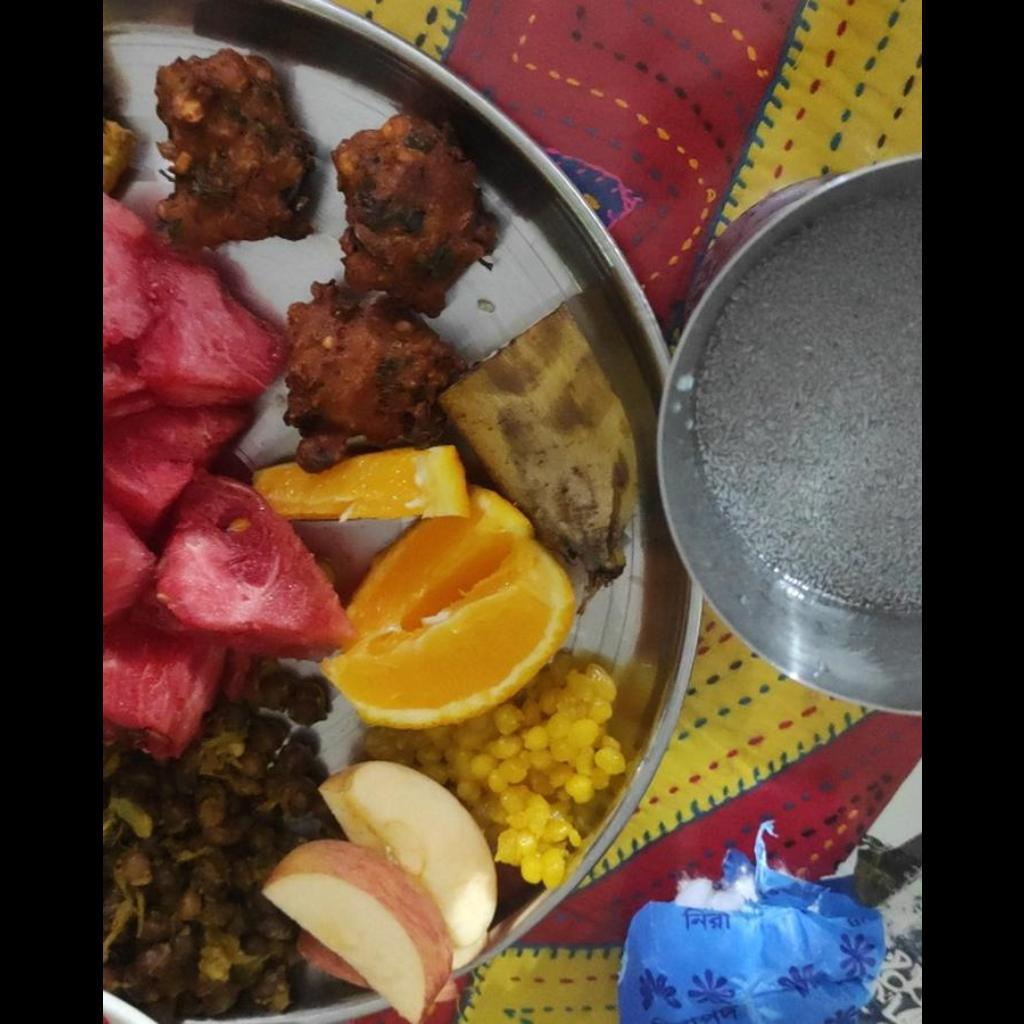apple: (259, 766, 497, 1023)
banana: (454, 296, 632, 581)
burinda: (363, 657, 633, 892)
chola: (102, 670, 336, 1022)
juice: (690, 163, 920, 609)
orange: (253, 444, 582, 729)
peyaju: (152, 47, 488, 465)
watermelon: (102, 180, 343, 761)
